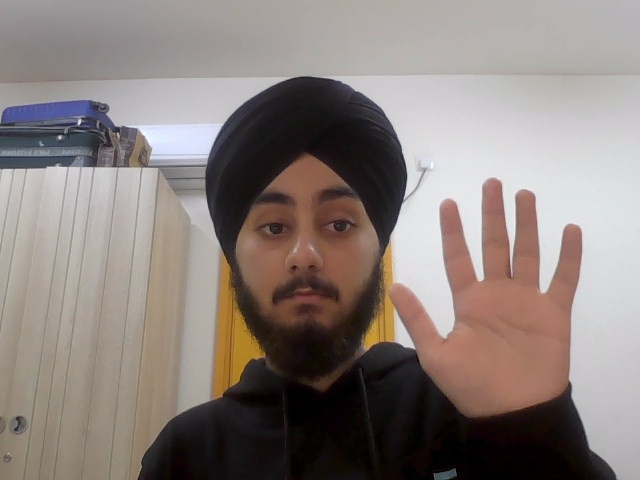Hello: (386, 179, 585, 415)
